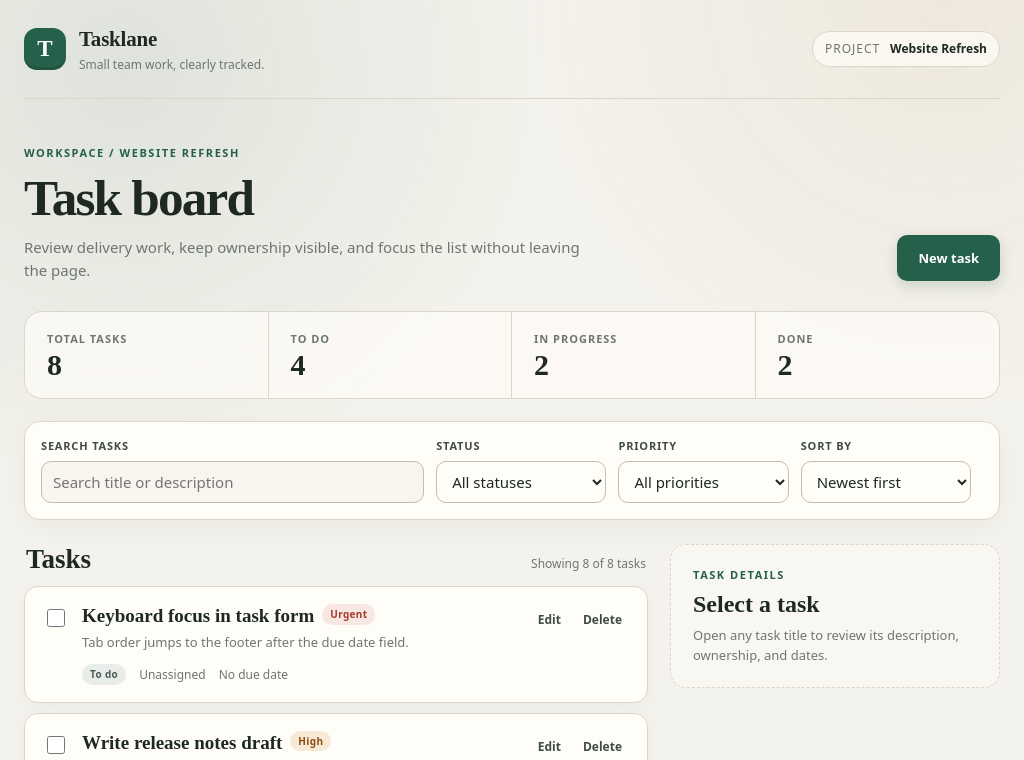
Scenario: TaskBoard › filters the list by status
Select "Done" in the dropdown labelled "Status" at {"x": 521, "y": 482}, box x1=436 y1=461 x2=606 y2=503
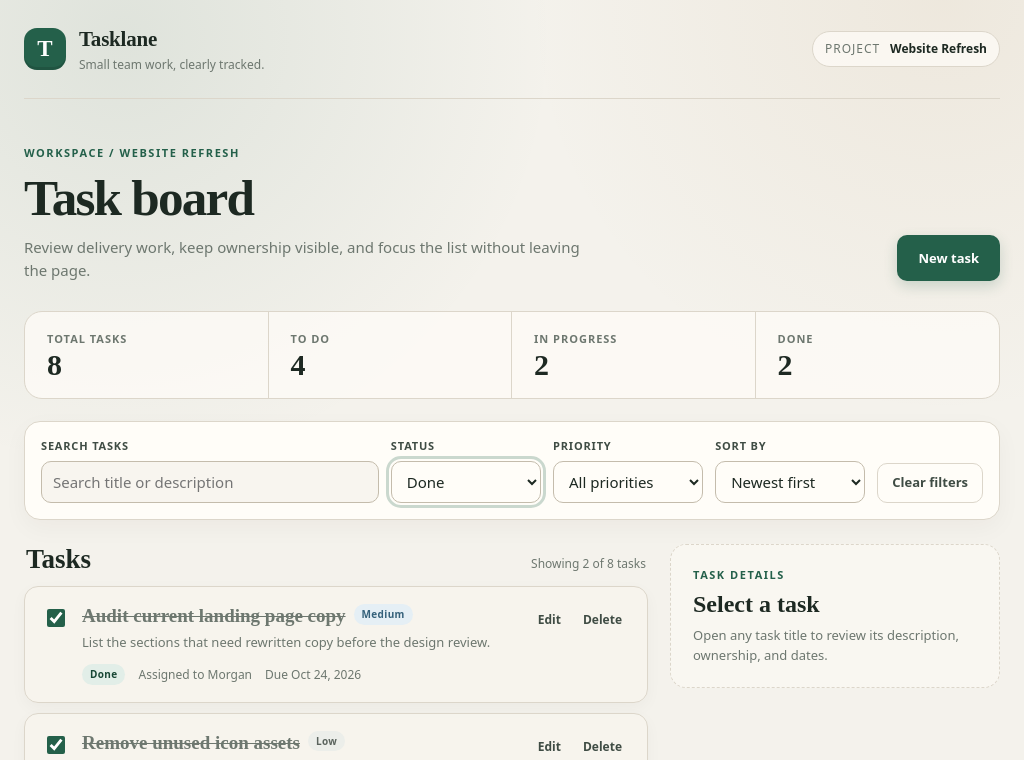
Expected: the button "Audit current landing page copy" is shown, x1=82 y1=604 x2=346 y2=628
Expected: the button "Write release notes draft" is gone
